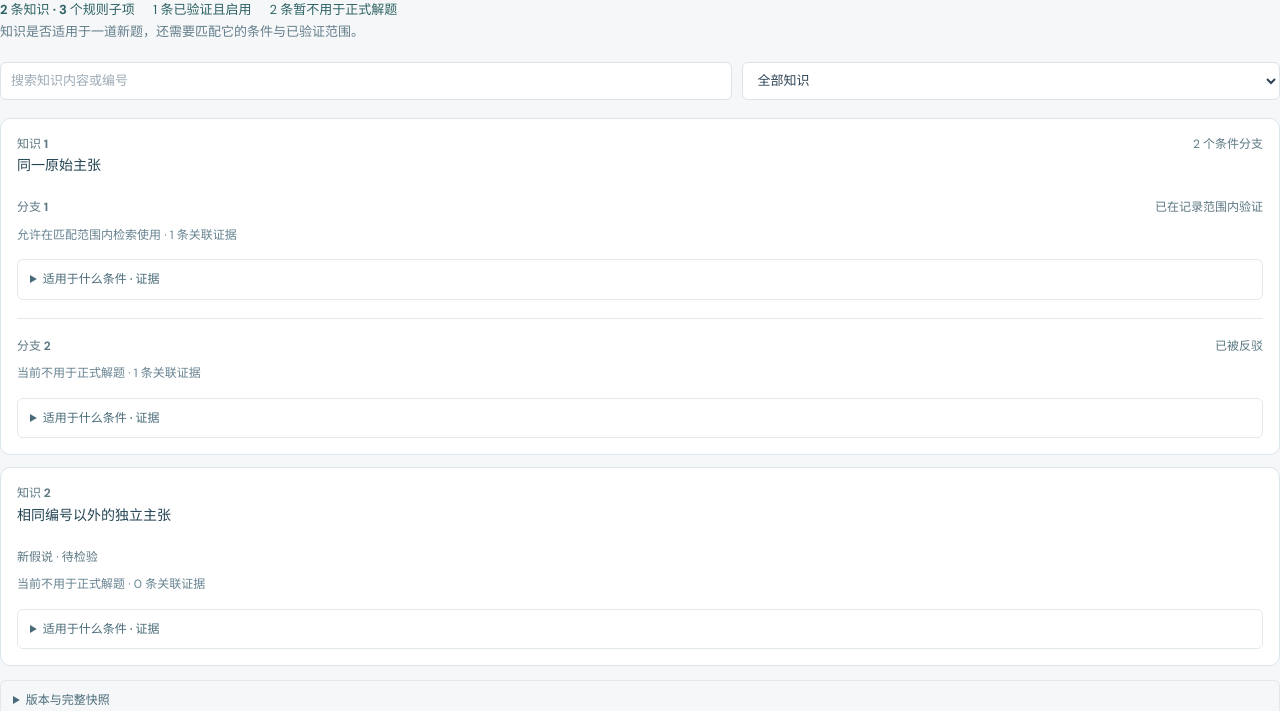
Test case: groups source clauses into one claim without losing per-clause status and evidence
The image size is (1280, 711).
Expected: the text "同一原始主张" is shown once, [17,156,101,174]
Expected: the text "2 条知识 · 3 个规则子项" is shown, [0,0,135,20]
What coordinates should you click on to do the following:
click the heading "适用于什么条件 · 证据" below "允许在匹配范围内检索使用"
I would click on:
 (101, 279)
Its box is [43,271,159,287].
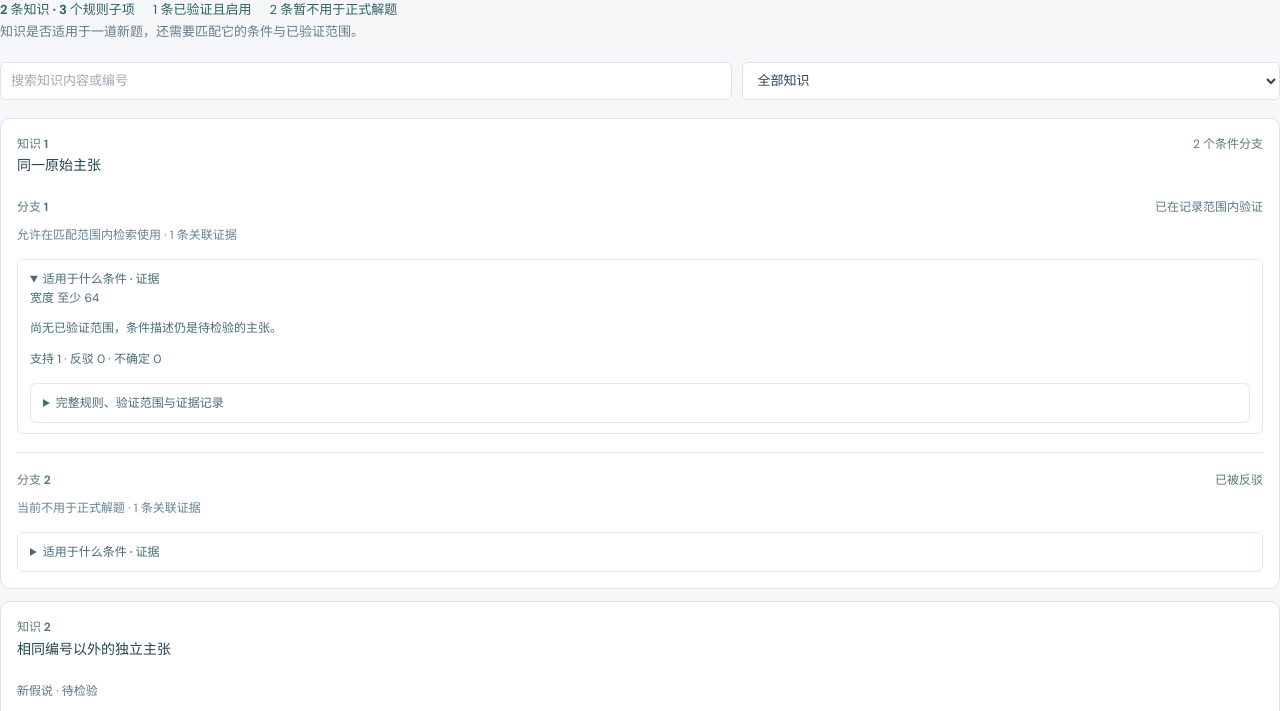
What coordinates should you click on to do the following:
click the heading "适用于什么条件 · 证据" below "已被反驳"
I would click on:
 (101, 552)
Its box is [43,544,159,560].
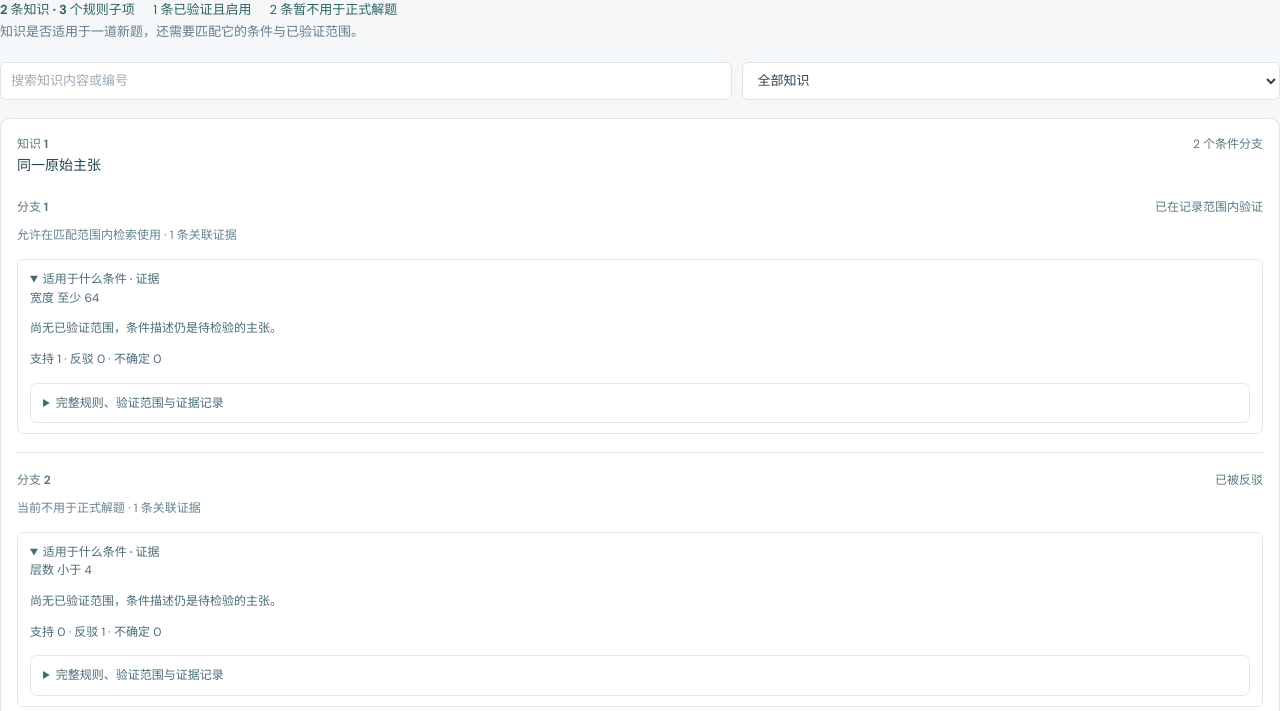
Expected: the text "宽度 至少 64" is shown, [30,290,99,306]
Expected: the text "支持 1 · 反驳 0 · 不确定 0" is shown, [30,351,161,367]
Expected: the text "层数 小于 4" is shown, [30,562,92,578]
